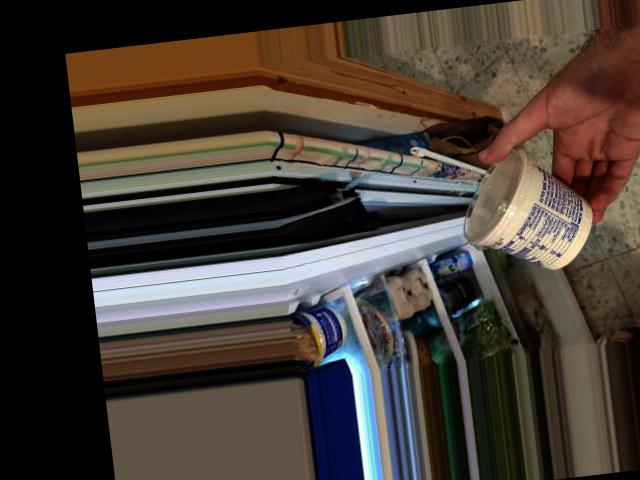cotage: (471, 131, 594, 263)
